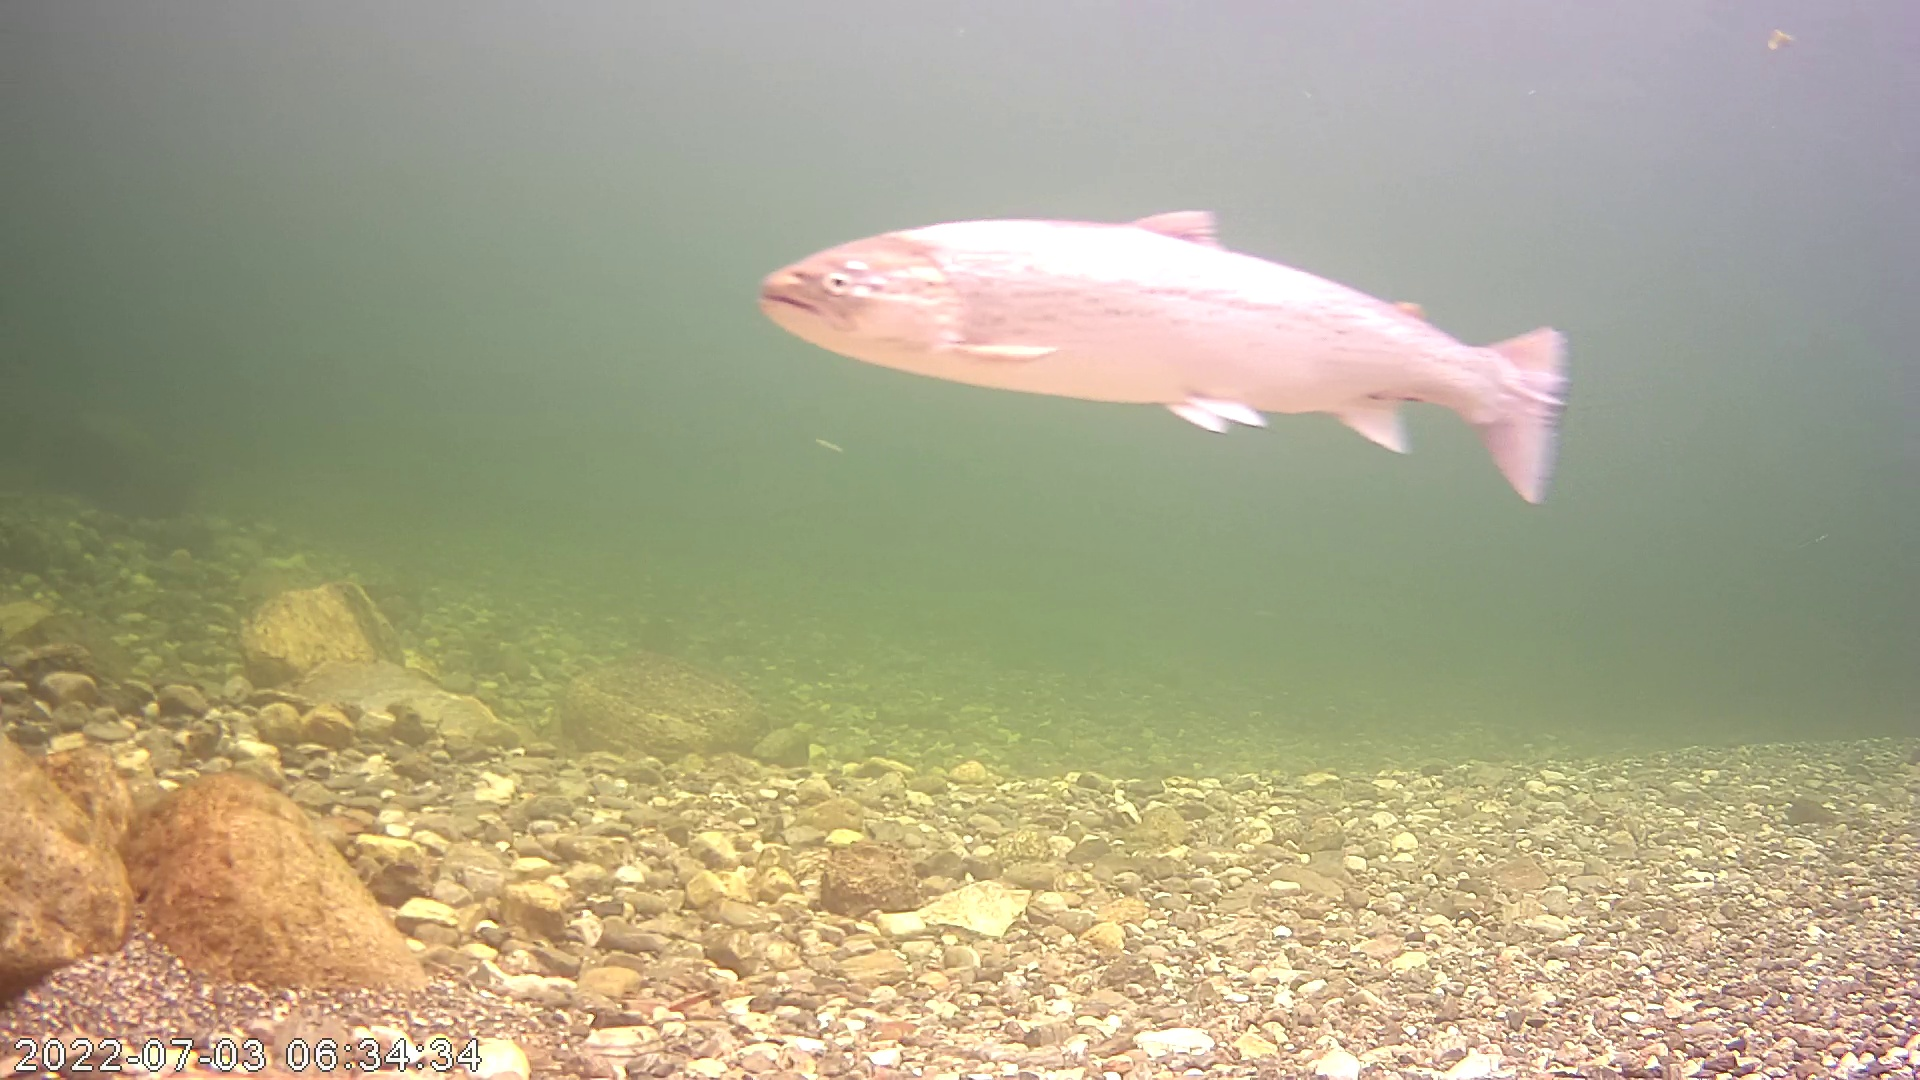salmon: (753, 204, 1567, 508)
